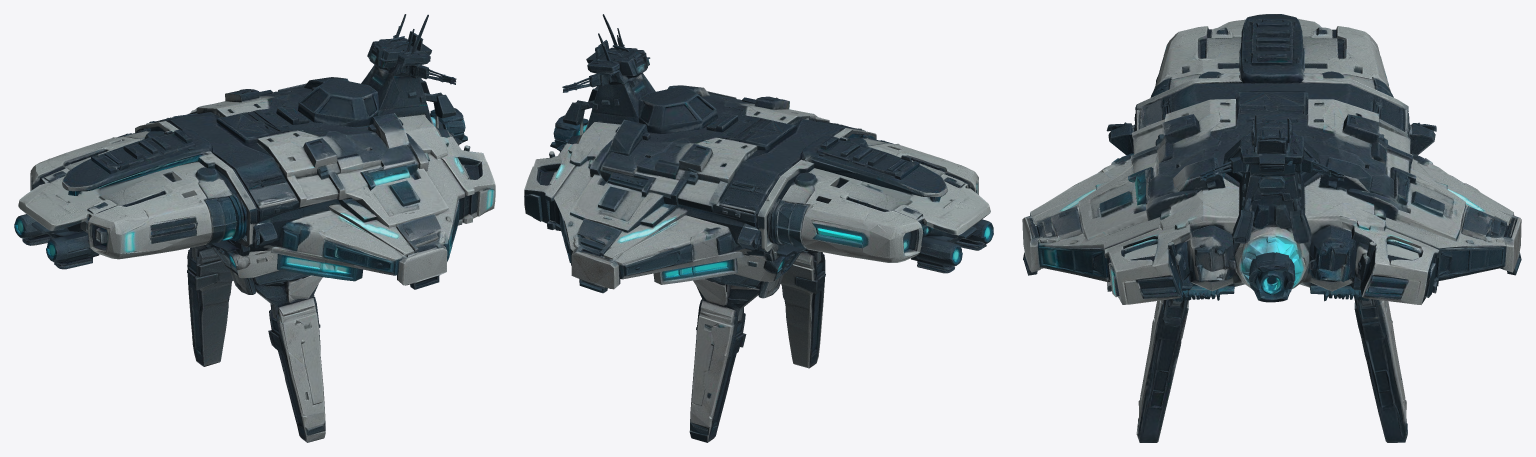
The model's file is s_carrier.glb.
3 views of the same model, side by side, from view 1: azimuth 30°, elevation 25°; view 2: azimuth 150°, elevation 25°; view 3: azimuth 270°, elevation 25° (orthographic). The views are drawn at different scales.
Parts seen in each view (by area): view 1: mesh_0; view 2: mesh_0; view 3: mesh_0.
Boxes of the visible parts, x1,y1,x2,y2 form: mesh_0: (14,14,495,442); mesh_0: (524,14,993,442); mesh_0: (1022,14,1521,442).
Bounding box in the file's own units: 1.9 × 1.49 × 1.61.
1 material, 1 textured.
